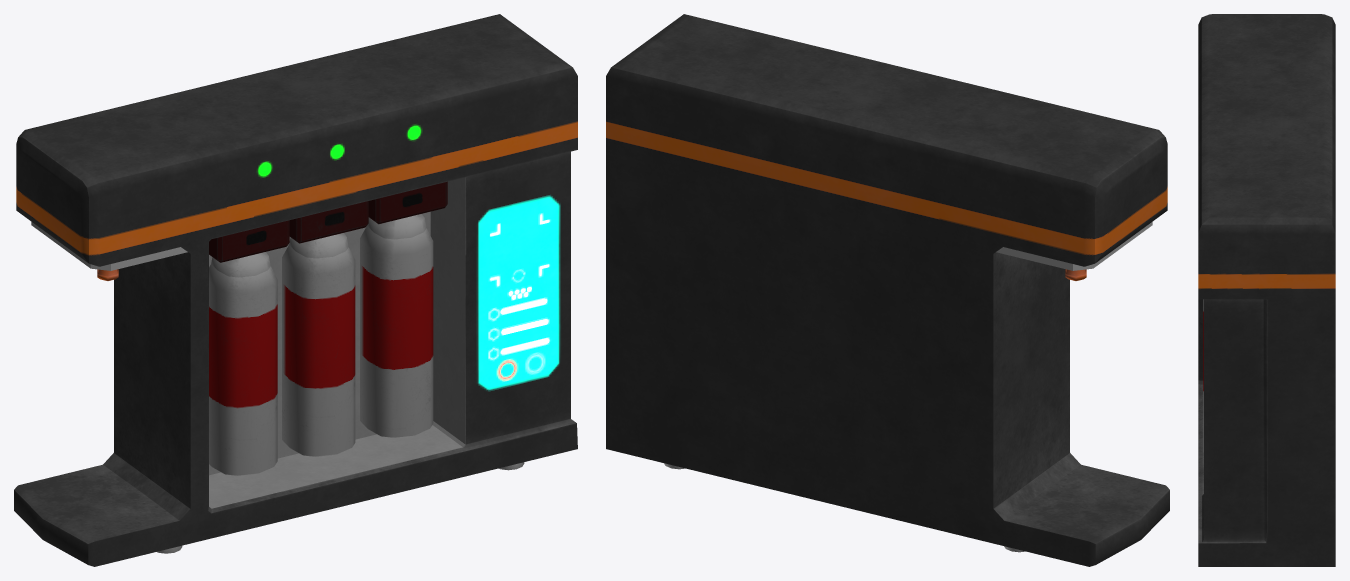
The model's file is Cafetera text.fbx.
The picture shows the model from 3 angles, left to right: view 1: azimuth 30°, elevation 25°; view 2: azimuth 150°, elevation 25°; view 3: azimuth 270°, elevation 25°; orthographic projection. The views are drawn at different scales.
Parts seen in each view (by area): view 1: Estructura_A, Botella, sostenedores, Estructura_B; view 2: Estructura_A, Estructura_B; view 3: Estructura_A.
Part boxes in pixels (bbox=[...]): Estructura_A: bbox=[14, 14, 577, 566]; Botella: bbox=[209, 214, 433, 475]; sostenedores: bbox=[209, 181, 447, 262]; Estructura_B: bbox=[31, 222, 187, 270]; Estructura_A: bbox=[606, 14, 1169, 566]; Estructura_B: bbox=[996, 222, 1152, 270]; Estructura_A: bbox=[1198, 14, 1335, 566].
Bounding box in the file's own units: 21.96 × 16.68 × 5.85.
Materials: 2 (2 with a texture image).
